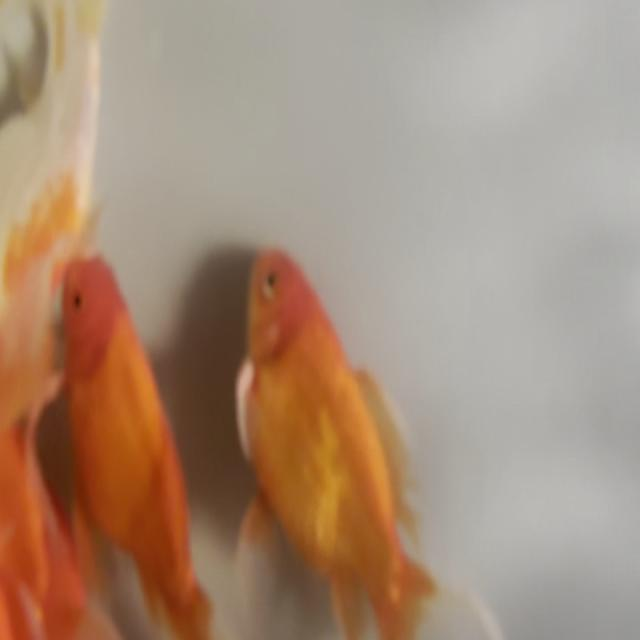fish: (240, 249, 525, 640), (55, 250, 232, 640), (0, 66, 85, 432)
